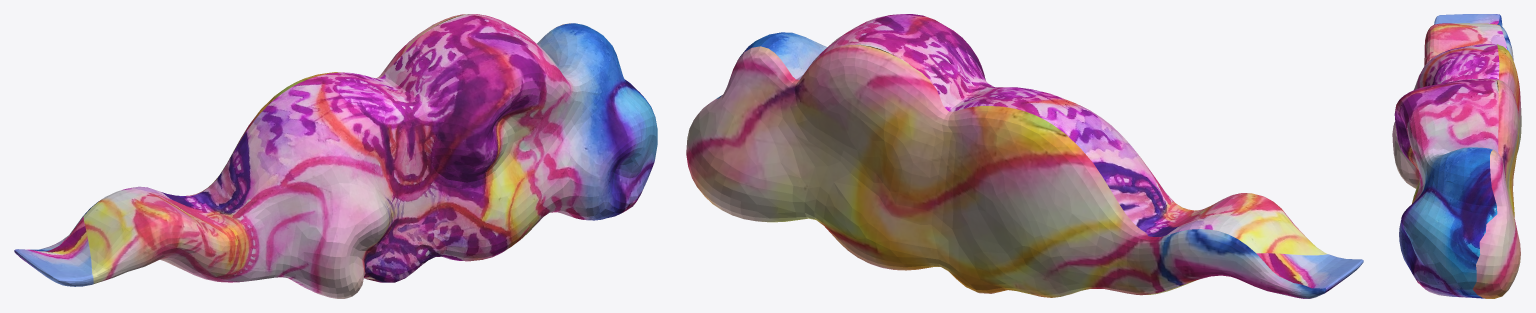
The model's file is cloud2.fbx.
3 renders of one model, left to right at view 1: azimuth 30°, elevation 25°; view 2: azimuth 150°, elevation 25°; view 3: azimuth 270°, elevation 25°, orthographic. The views are drawn at different scales.
Parts seen in each view (by area): view 1: CLOUD_LOW POLLY; view 2: CLOUD_LOW POLLY; view 3: CLOUD_LOW POLLY.
Boxes of the visible parts, x1=… form: CLOUD_LOW POLLY: x1=14, y1=14, x2=657, y2=298; CLOUD_LOW POLLY: x1=686, y1=14, x2=1363, y2=298; CLOUD_LOW POLLY: x1=1392, y1=14, x2=1521, y2=298.
Bounding box in the file's own units: 27.66 × 124 × 41.99.
